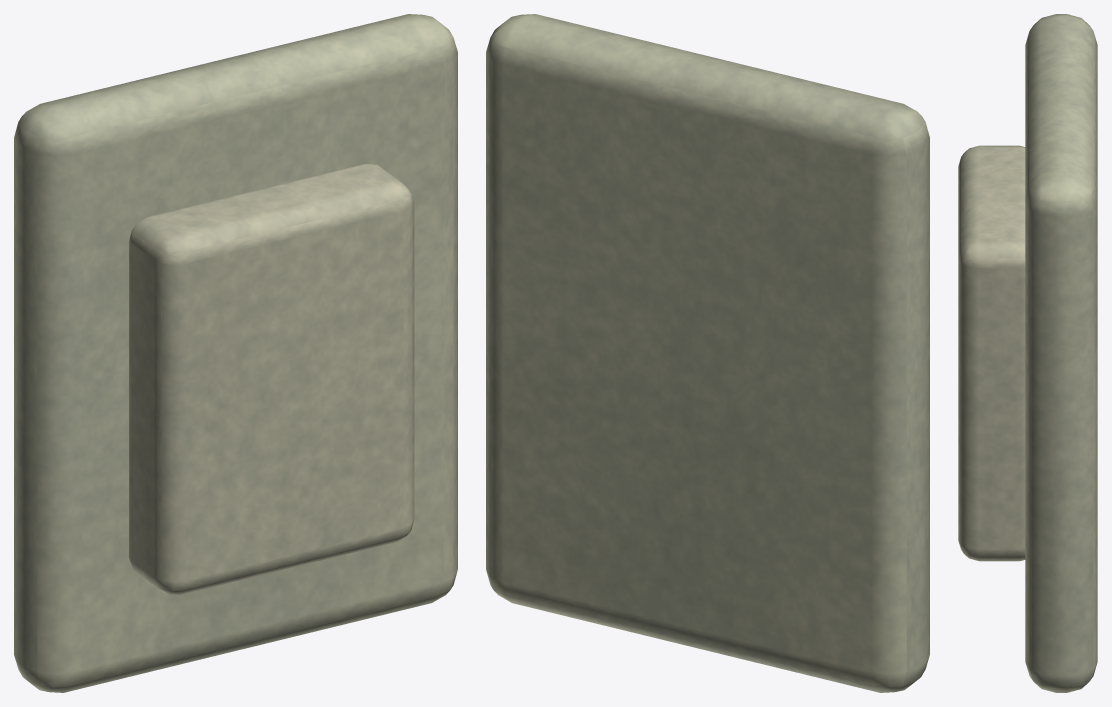
File: WallSwitch.fbx
The picture shows the model from 3 angles, left to right: view 1: azimuth 30°, elevation 25°; view 2: azimuth 150°, elevation 25°; view 3: azimuth 270°, elevation 25°; orthographic projection. The views are drawn at different scales.
Parts seen in each view (by area): view 1: WallSwitch_Enamel, WallSwitch_Porcelain; view 2: WallSwitch_Enamel; view 3: WallSwitch_Enamel, WallSwitch_Porcelain.
Boxes of the visible parts, box(x1,y1,x2,y2) form: WallSwitch_Enamel: box(14, 14, 457, 692); WallSwitch_Porcelain: box(129, 164, 414, 594); WallSwitch_Enamel: box(486, 14, 929, 692); WallSwitch_Enamel: box(1025, 14, 1097, 692); WallSwitch_Porcelain: box(958, 145, 1025, 561).
Size of the model in its own units: 8.5 by 11 by 2.7.
